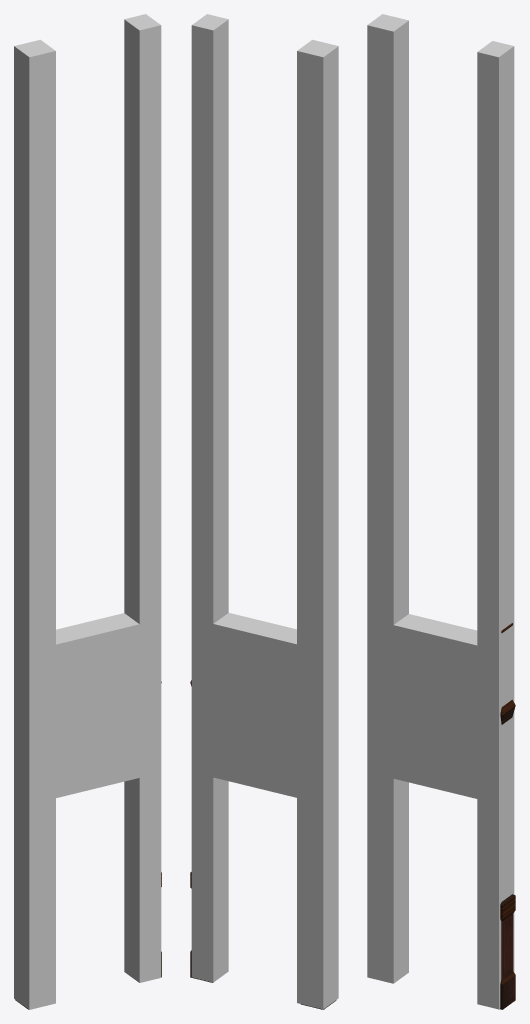
File: BalconyRail_Shorter_2Pole.fbx
The picture shows the model from 3 angles, left to right: view 1: azimuth 30°, elevation 25°; view 2: azimuth 150°, elevation 25°; view 3: azimuth 330°, elevation 25°; orthographic projection.
Parts seen in each view (by area): view 1: Balcony_Short2pole_COLmesh.001; view 2: Balcony_Short2pole_COLmesh.001; view 3: Balcony_Short2pole_COLmesh.001, Balcony_2_PolesShorter_LOD0.002.
Boxes of the visible parts, <box> form: Balcony_Short2pole_COLmesh.001: <box>14,14,161,1009</box>; Balcony_Short2pole_COLmesh.001: <box>191,14,338,1009</box>; Balcony_Short2pole_COLmesh.001: <box>367,14,514,1009</box>; Balcony_2_PolesShorter_LOD0.002: <box>499,623,515,1009</box>.
Bounding box in the file's own units: 218 × 1482 × 43.23.
